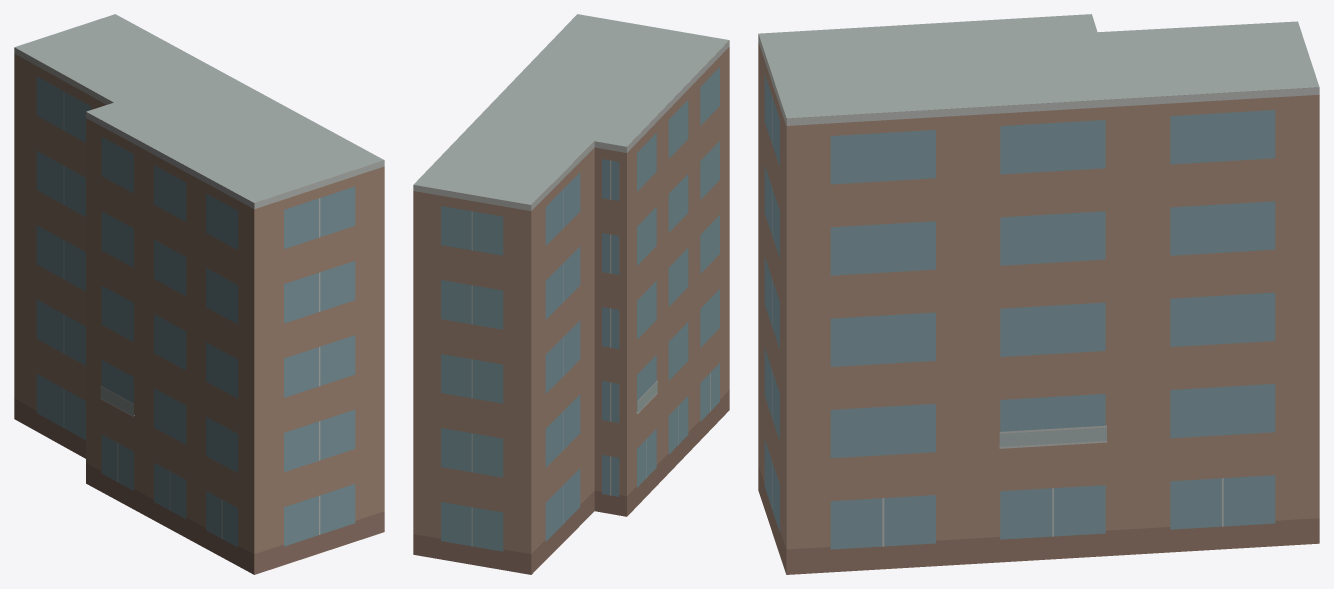
Rendered from survey-upis-32928469.glb.
The picture shows the model from 3 angles, left to right: view 1: azimuth 30°, elevation 25°; view 2: azimuth 150°, elevation 25°; view 3: azimuth 270°, elevation 25°; orthographic projection. The views are drawn at different scales.
Parts seen in each view (by area): view 1: survey-upis-32928469.tmp; view 2: survey-upis-32928469.tmp; view 3: survey-upis-32928469.tmp.
Part boxes in pixels (left/top/right/bottom): survey-upis-32928469.tmp: left=14, top=14, right=384, bottom=574; survey-upis-32928469.tmp: left=413, top=14, right=729, bottom=574; survey-upis-32928469.tmp: left=758, top=14, right=1319, bottom=574.
Size of the model in its own units: 7.2 by 14.65 by 16.33.
